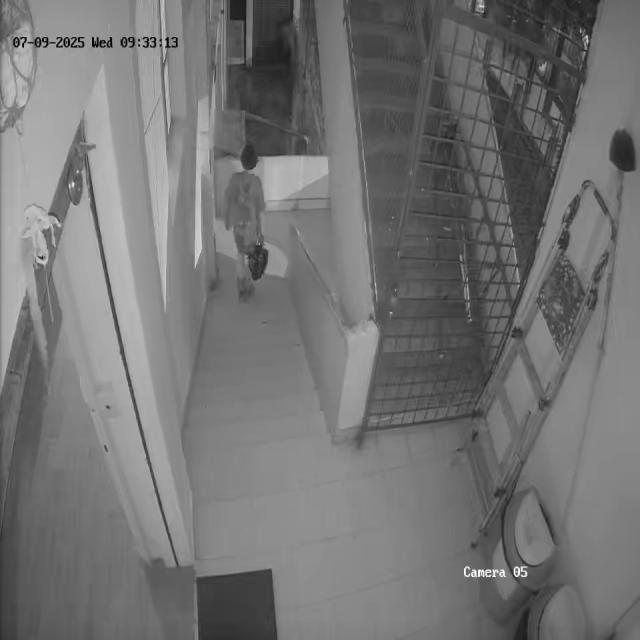person: (224, 143, 266, 299)
